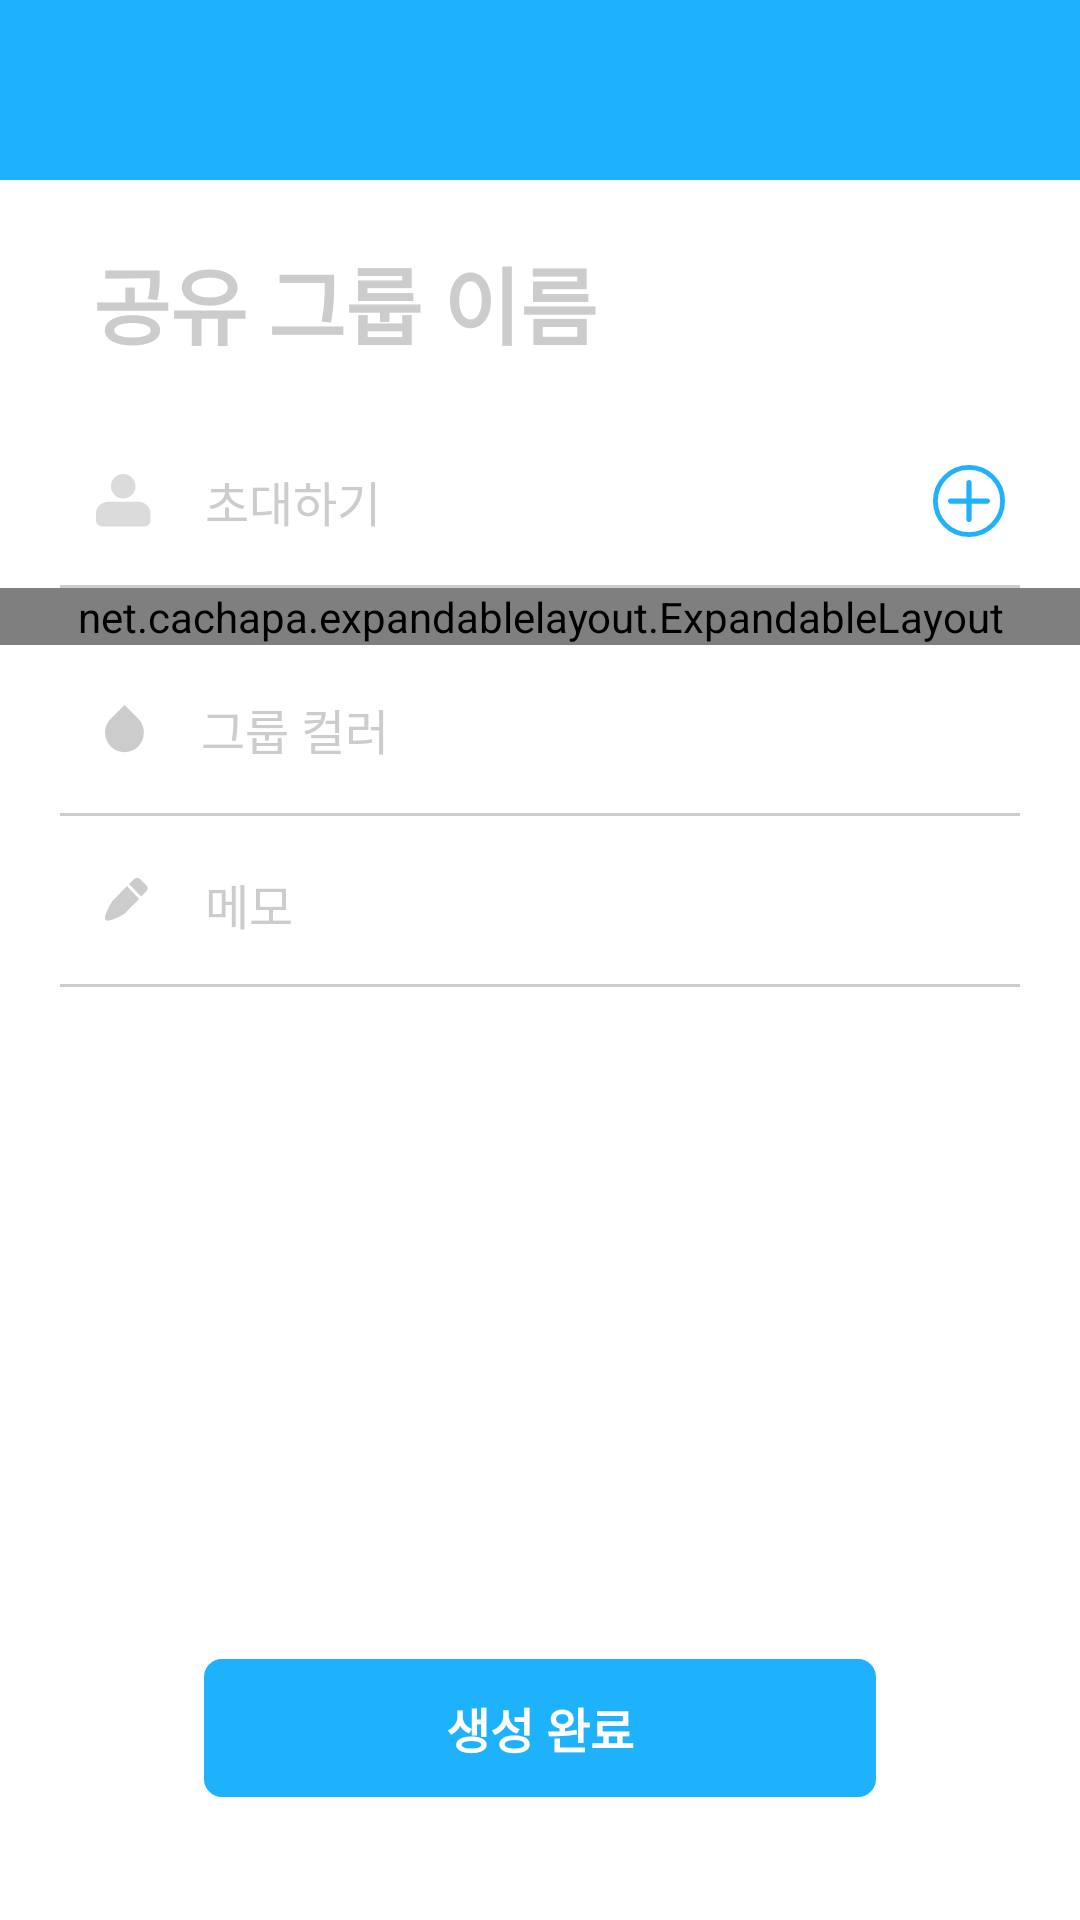

Where icons sit on this 1080*1920 app screen, as (x1, y1, x2, y2):
add schedule: (933, 465, 1005, 537)
memo: (105, 878, 148, 921)
